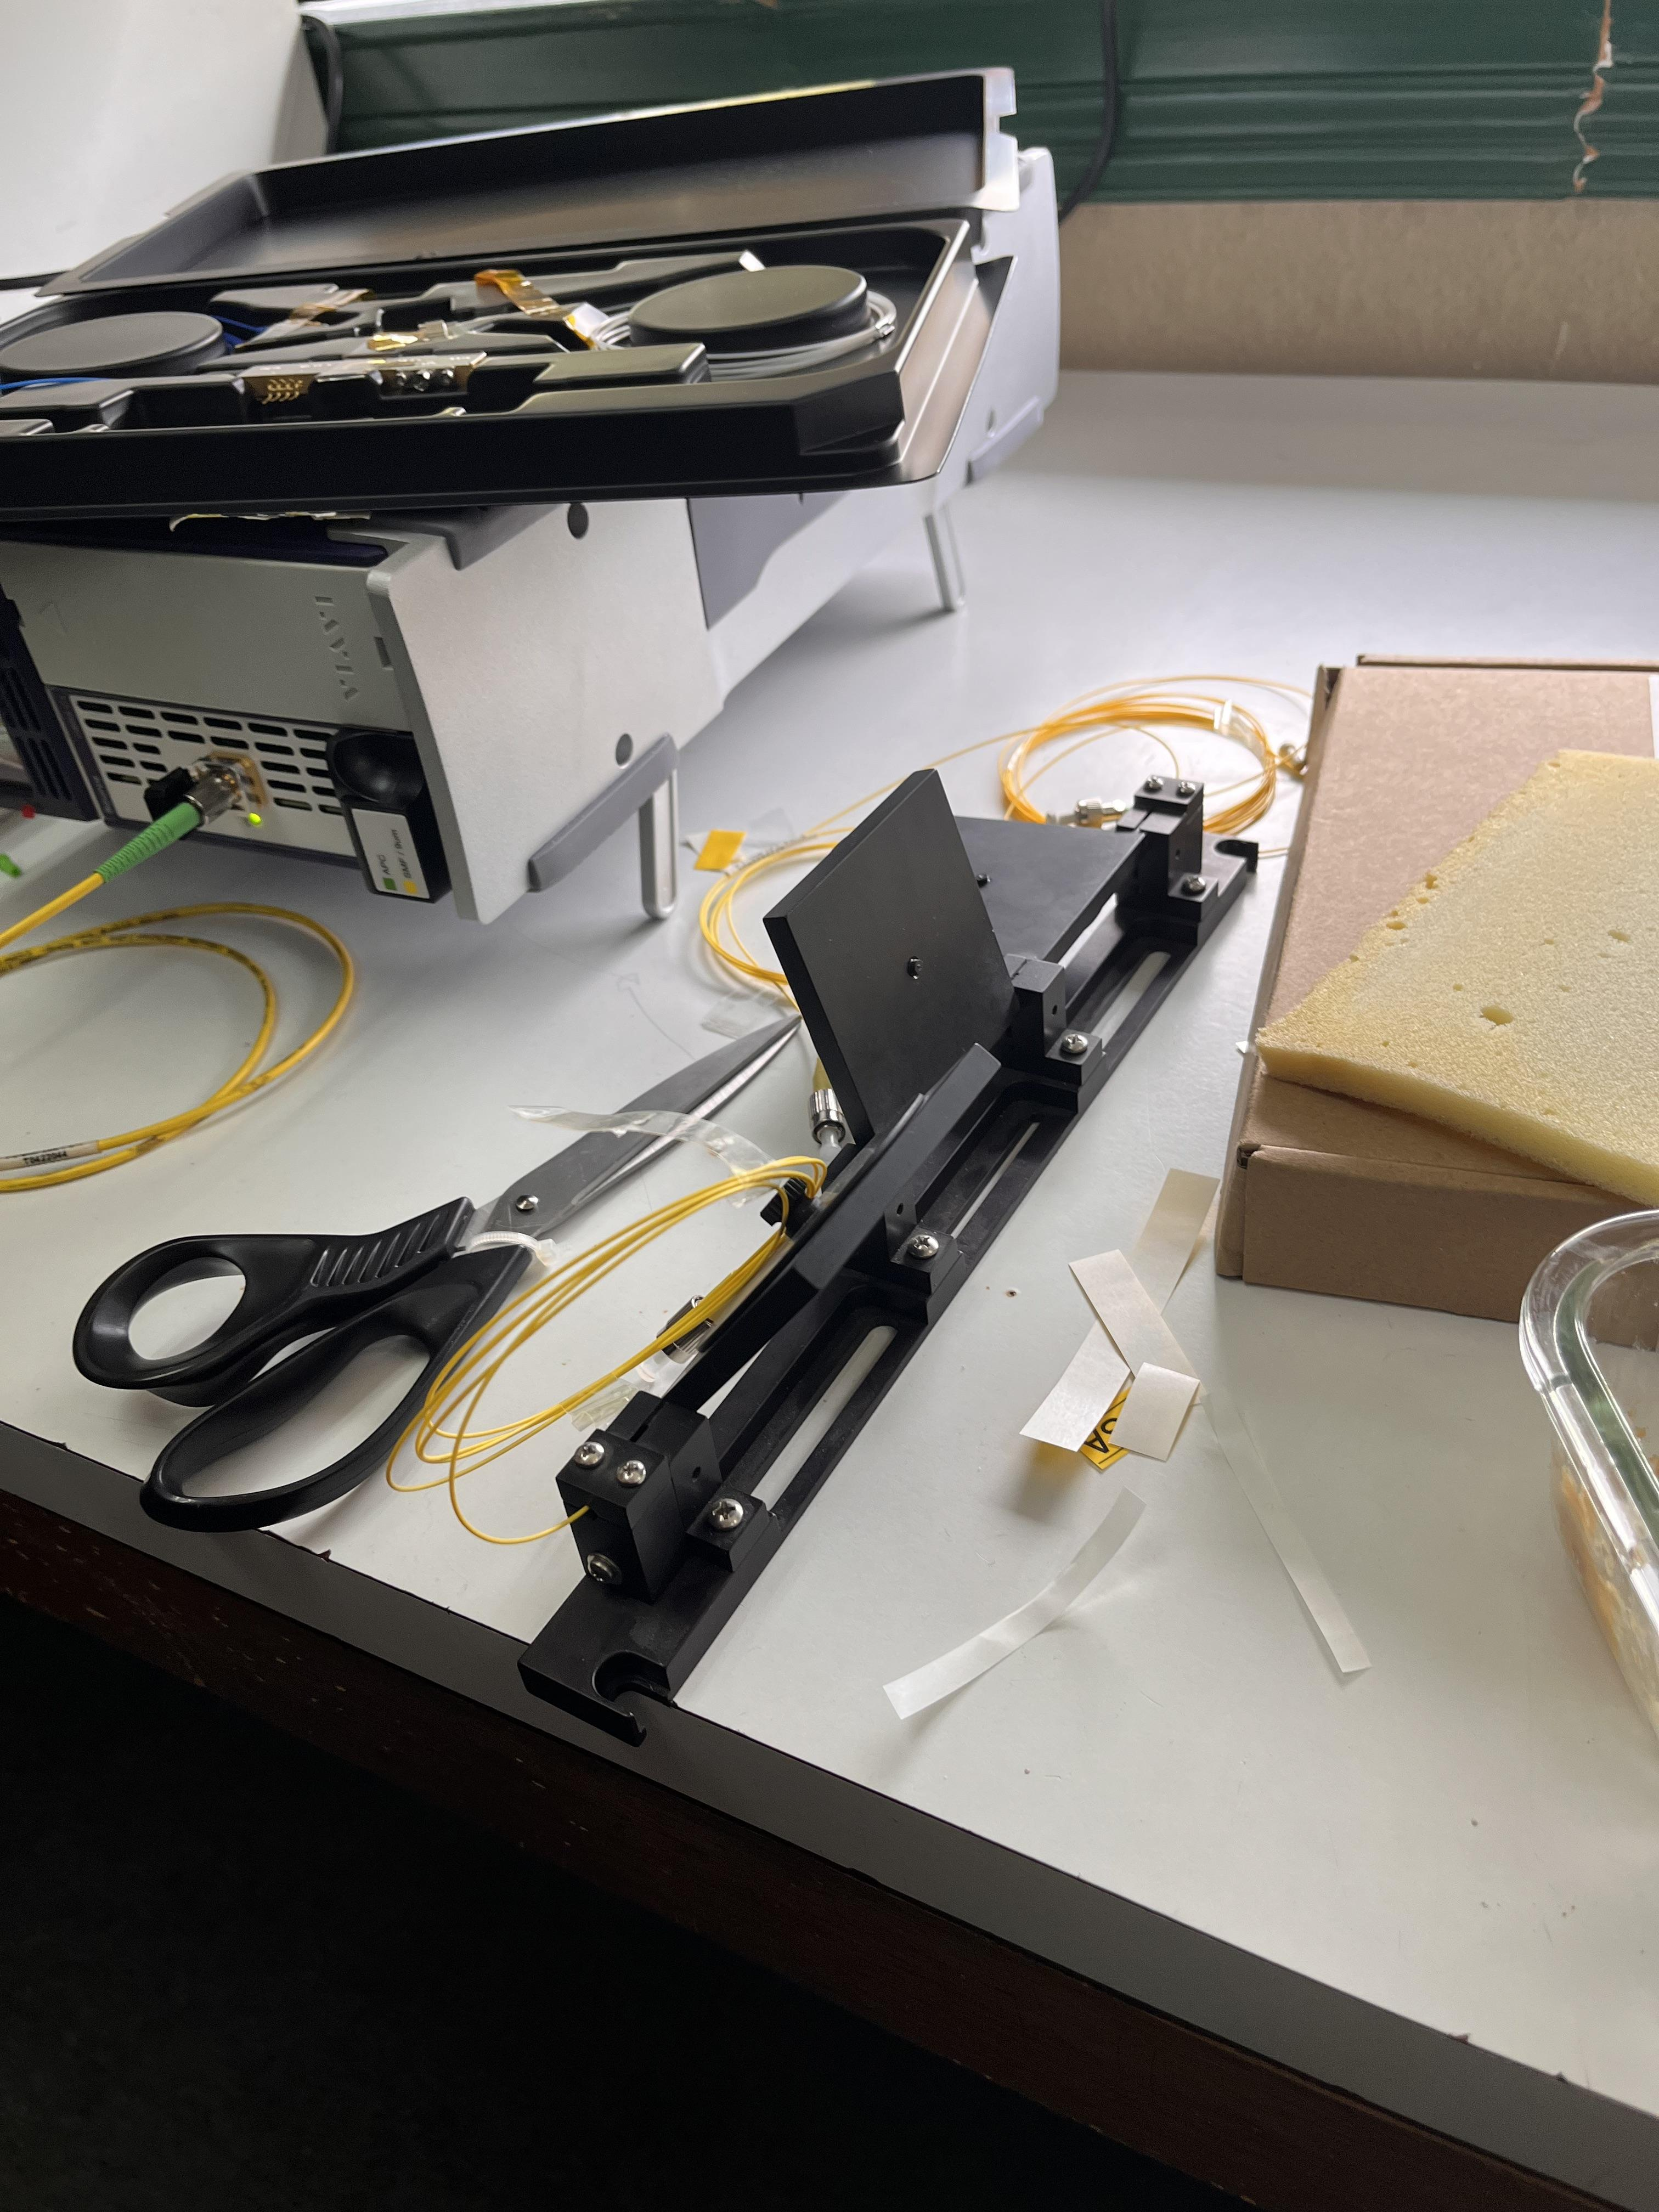paddle_polarization_controller: (511, 744, 1270, 1747)
